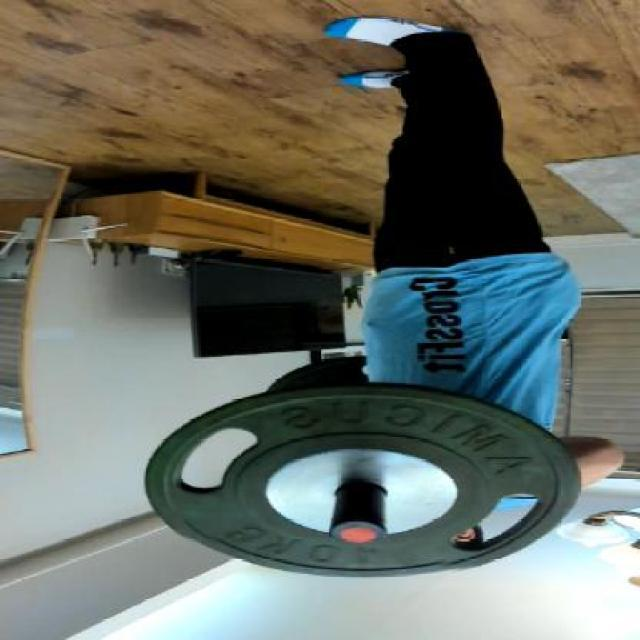Barbell: (329, 518, 394, 547)
